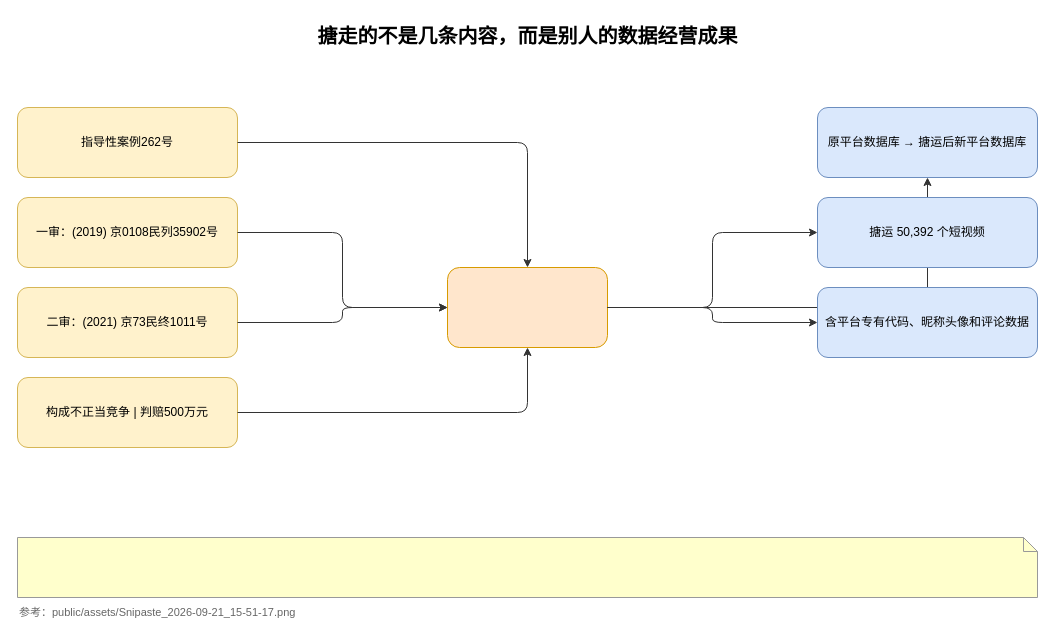
This 1055x638 diagram has some shape labels left out. Here are the shapes that lost their labels. From the top down, the centre of each, then its label:
At point (527, 307): "整库搪运".
At point (527, 567): "知识库不能整库搪运".
